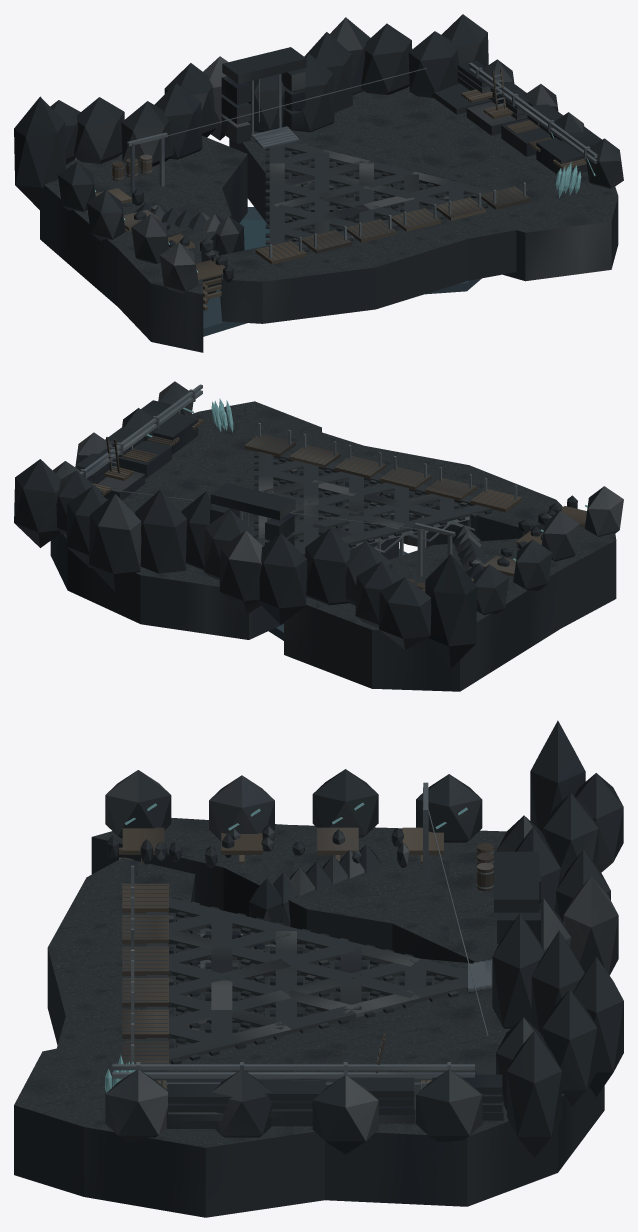
Rendered from mine-level-5.glb.
The picture shows the model from 3 angles, top to bottom: view 1: azimuth 30°, elevation 25°; view 2: azimuth 150°, elevation 25°; view 3: azimuth 270°, elevation 25°; orthographic projection. The views are drawn at different scales.
Visible parts, largest first — view 1: West hanging shelf, Crushed-stone track bed, Weathered east catwalk, Bridge undergirder, Fault bed, Bridge lattice, Subterranean water, Copper crystal; view 2: West hanging shelf, Crushed-stone track bed, Weathered east catwalk, Bridge undergirder, Bridge lattice, Fault bed, Copper crystal; view 3: West hanging shelf, Crushed-stone track bed, Weathered east catwalk, Bridge undergirder, Fault bed.
Boxes of the visible parts, bbox=[...] form: West hanging shelf: bbox=[14, 14, 623, 352]; Crushed-stone track bed: bbox=[269, 142, 493, 249]; Weathered east catwalk: bbox=[95, 68, 586, 310]; Bridge undergirder: bbox=[112, 62, 597, 258]; Fault bed: bbox=[203, 187, 527, 336]; Bridge lattice: bbox=[127, 67, 590, 230]; Subterranean water: bbox=[215, 219, 269, 292]; Copper crystal: bbox=[95, 132, 595, 273]; West hanging shelf: bbox=[14, 381, 623, 691]; Crushed-stone track bed: bbox=[258, 451, 494, 555]; Weathered east catwalk: bbox=[92, 414, 586, 592]; Bridge undergirder: bbox=[79, 384, 517, 590]; Bridge lattice: bbox=[80, 389, 474, 552]; Fault bed: bbox=[248, 434, 518, 640]; Copper crystal: bbox=[147, 398, 587, 560]; West hanging shelf: bbox=[14, 720, 623, 1217]; Crushed-stone track bed: bbox=[146, 897, 467, 1063]; Weathered east catwalk: bbox=[119, 827, 494, 1089]; Bridge undergirder: bbox=[112, 787, 494, 1088]; Fault bed: bbox=[122, 885, 211, 1063].
Size of the model in its own units: 30.2 by 9.1 by 23.55.
9 materials, 6 textured.
